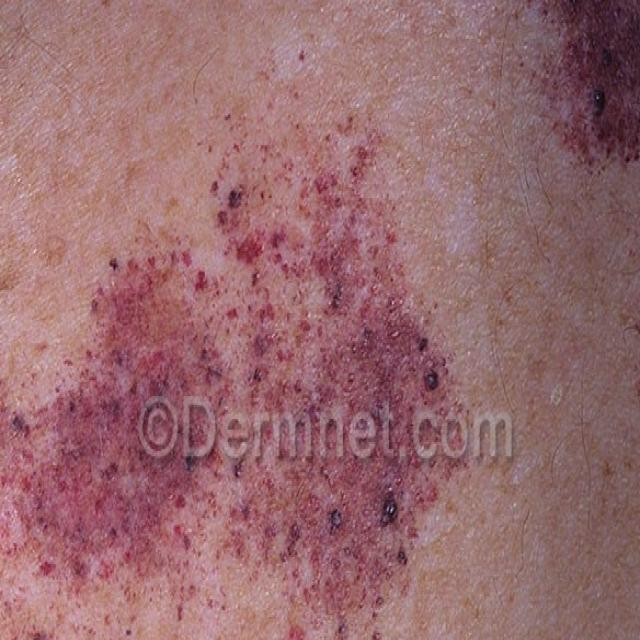Vascular Tumors: (0, 109, 448, 640), (517, 0, 640, 175)
